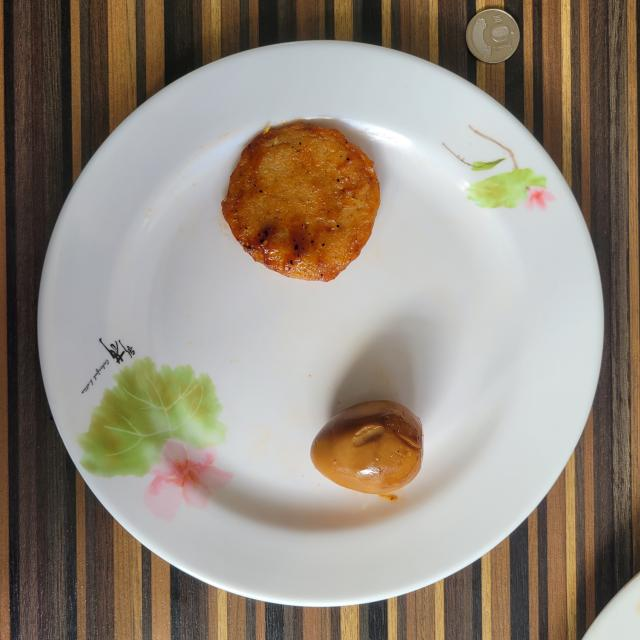coin: (466, 9, 520, 64)
fish cake: (221, 122, 380, 281)
soy egg: (310, 400, 422, 494)
